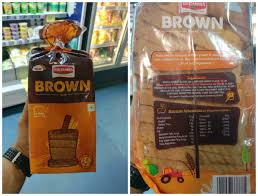bread: (134, 2, 256, 196), (25, 21, 103, 181)
